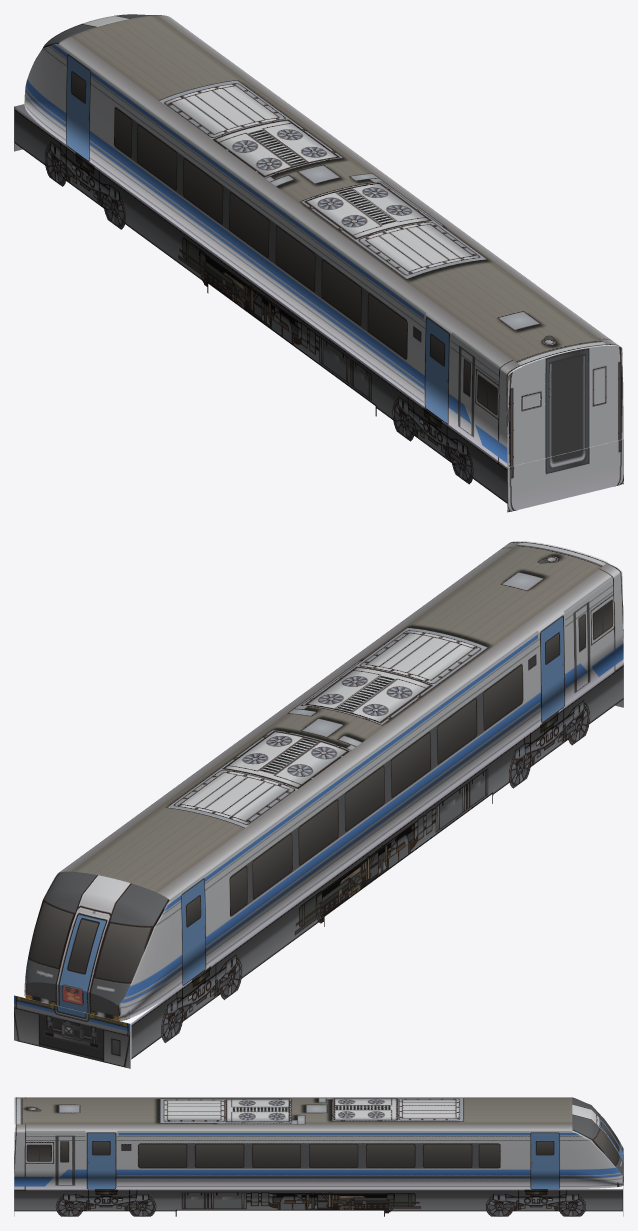
Rendered from car3.glb.
3 views of the same model, one above another, from view 1: azimuth 30°, elevation 25°; view 2: azimuth 150°, elevation 25°; view 3: azimuth 270°, elevation 25° (orthographic). The views are drawn at different scales.
Parts seen in each view (by area): view 1: jr-shikoku-2000-car3; view 2: jr-shikoku-2000-car3; view 3: jr-shikoku-2000-car3.
Boxes of the visible parts, x1,y1,x2,y2 form: jr-shikoku-2000-car3: [14, 14, 623, 512]; jr-shikoku-2000-car3: [14, 541, 623, 1068]; jr-shikoku-2000-car3: [14, 1097, 623, 1216].
Bounding box in the file's own units: 2.84 × 3.38 × 20.83.
Materials: 8 (7 with a texture image).
